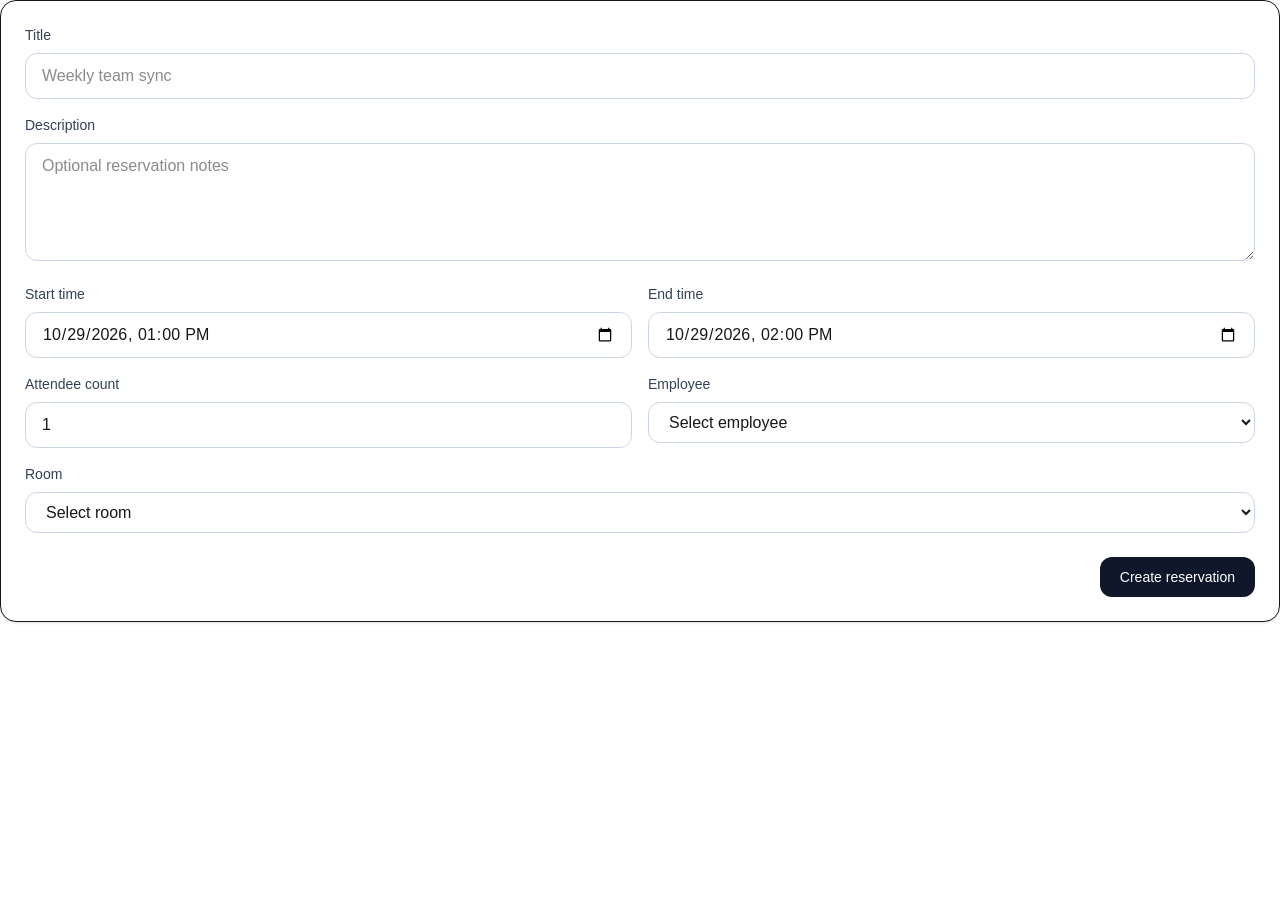
CreateReservationForm › reports every missing required field
This screenshot has width=1280, height=900.
Step 1. Click the button "Create reservation" → point(1177, 577), box left=1100, top=557, right=1255, bottom=597
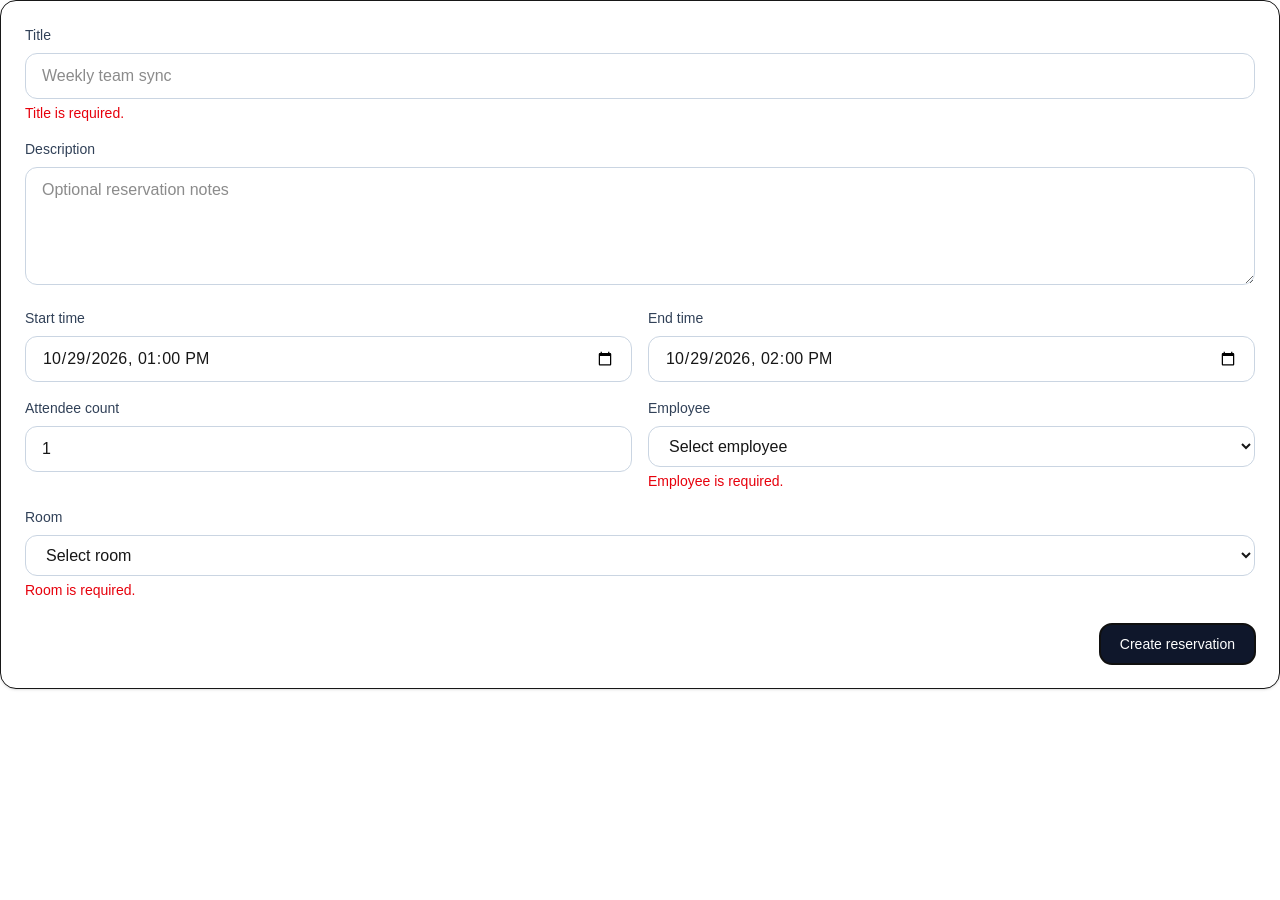
Result: the text "Title is required." is shown at left=25, top=105, right=124, bottom=121
Result: the text "Room is required." is shown at left=25, top=582, right=136, bottom=598
Result: the text "Employee is required." is shown at left=648, top=473, right=783, bottom=489
